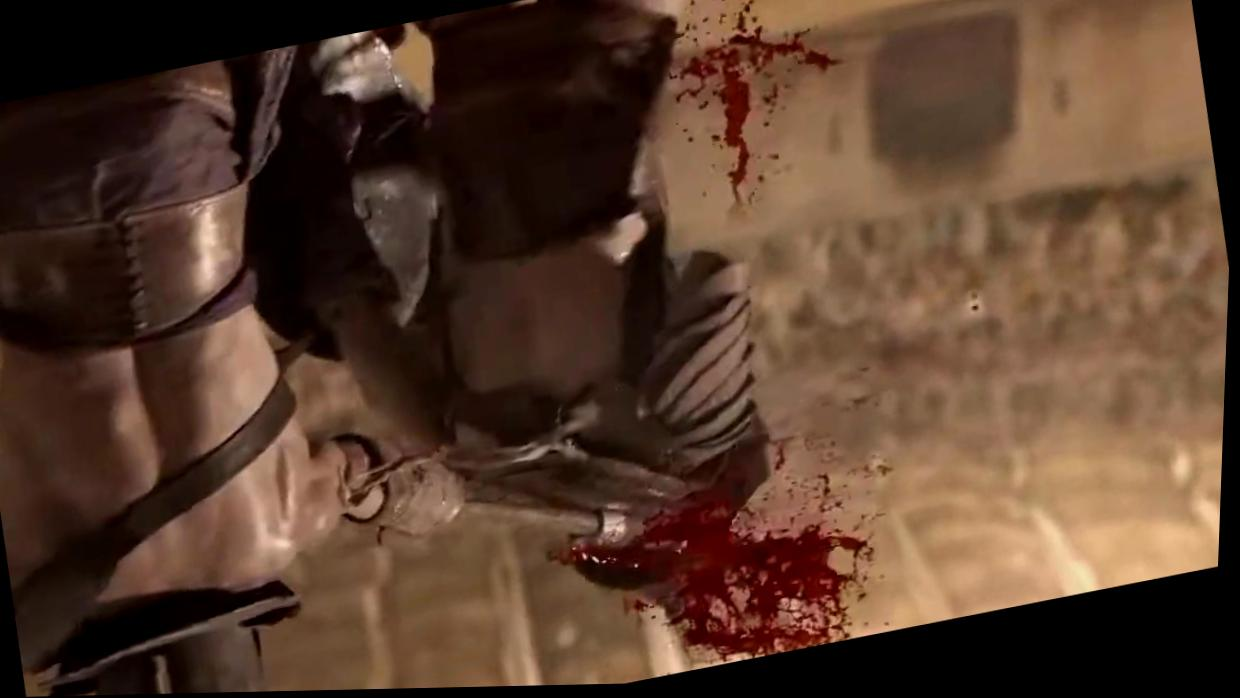Fire: (576, 504, 878, 664), (672, 0, 839, 219)
